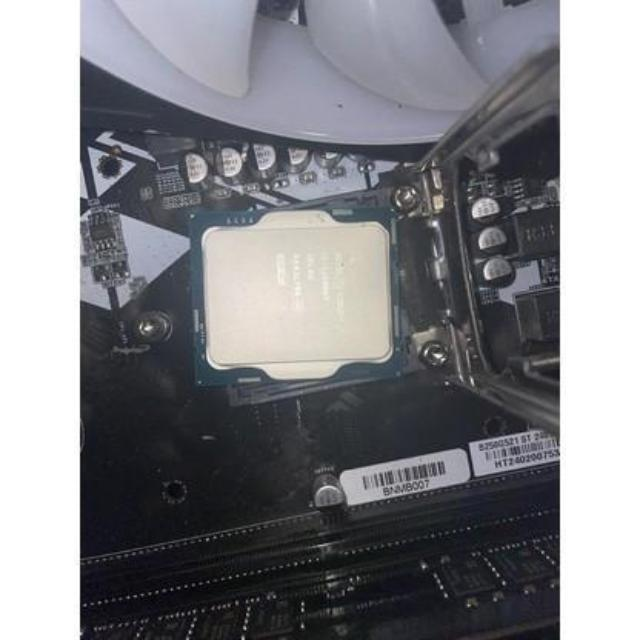CPU: (188, 217, 402, 372)
